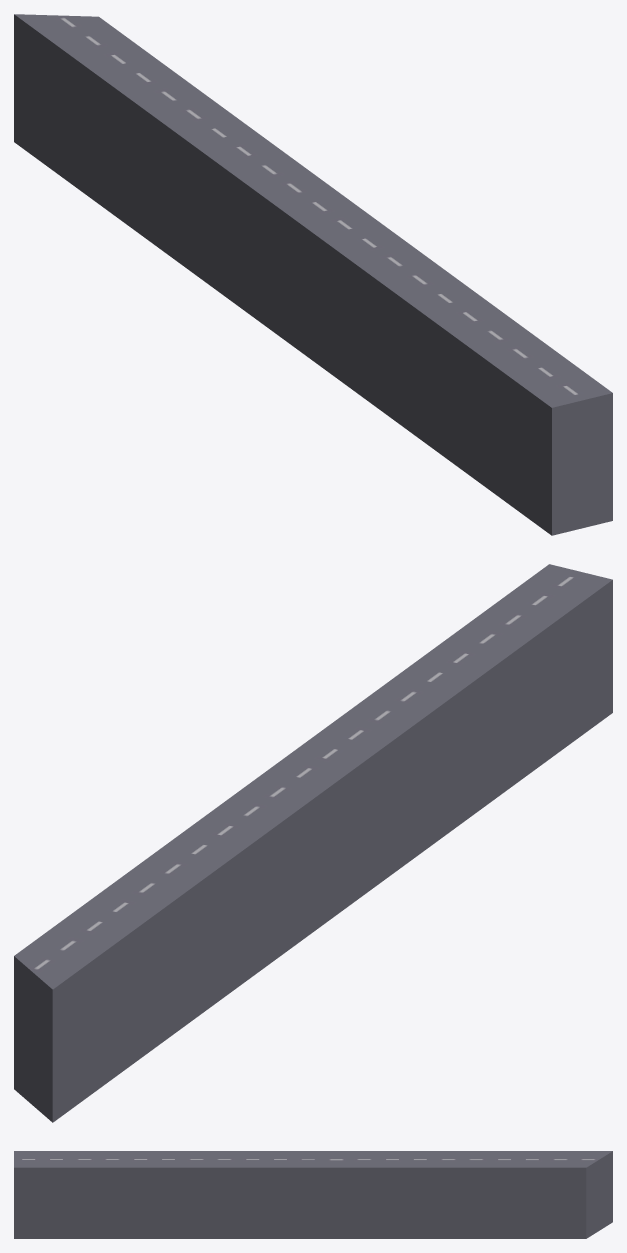
Rendered from road_1.gltf.
3 renders of one model, top to bottom at view 1: azimuth 30°, elevation 25°; view 2: azimuth 150°, elevation 25°; view 3: azimuth 270°, elevation 25°, orthographic. The views are drawn at different scales.
Visible parts, largest first — view 1: road; view 2: road; view 3: road.
Boxes of the visible parts, bbox=[...] form: road: bbox=[14, 14, 612, 535]; road: bbox=[14, 564, 612, 1122]; road: bbox=[14, 1151, 612, 1238].
Size of the model in its own units: 1.22 by 2.44 by 18.58.
1 material, 1 textured.
